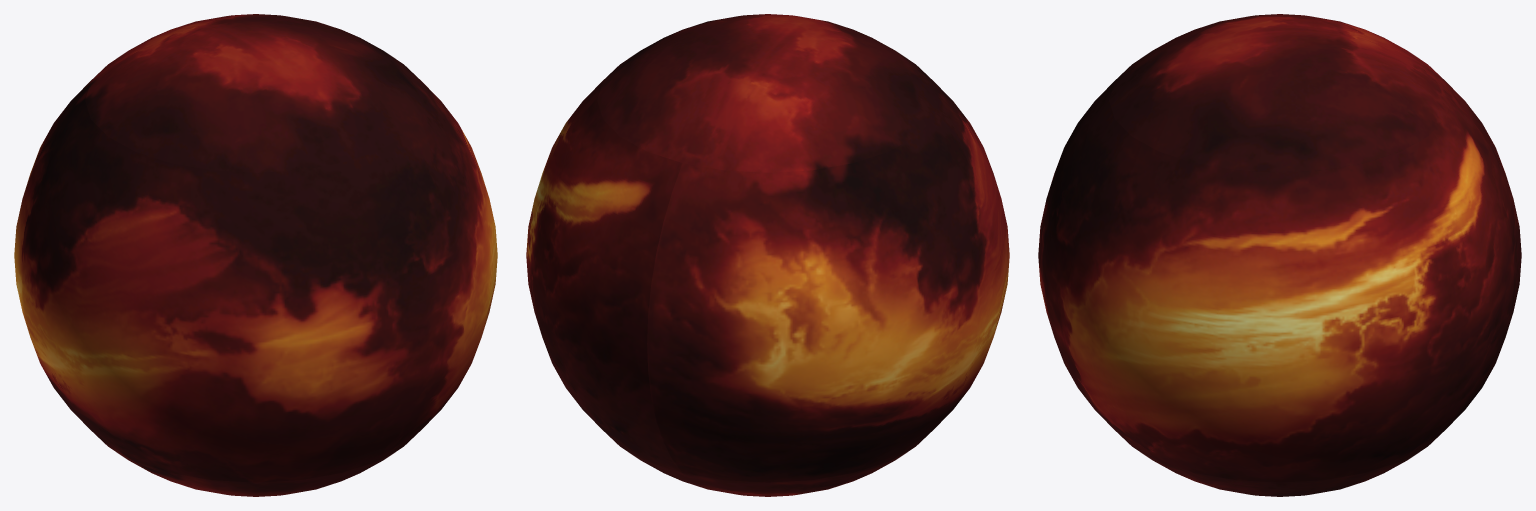
File: SkyboxBackdrop3.obj
3 renders of one model, left to right at view 1: azimuth 30°, elevation 25°; view 2: azimuth 150°, elevation 25°; view 3: azimuth 270°, elevation 25°, orthographic.
Visible parts, largest first — view 1: SkyboxBackdrop3_skydome.003; view 2: SkyboxBackdrop3_skydome.003; view 3: SkyboxBackdrop3_skydome.003.
Part boxes in pixels (bbox=[...]): SkyboxBackdrop3_skydome.003: bbox=[14, 14, 497, 496]; SkyboxBackdrop3_skydome.003: bbox=[526, 14, 1009, 496]; SkyboxBackdrop3_skydome.003: bbox=[1038, 14, 1521, 496].
Bounding box in the file's own units: 49.17 × 49.17 × 49.17.
